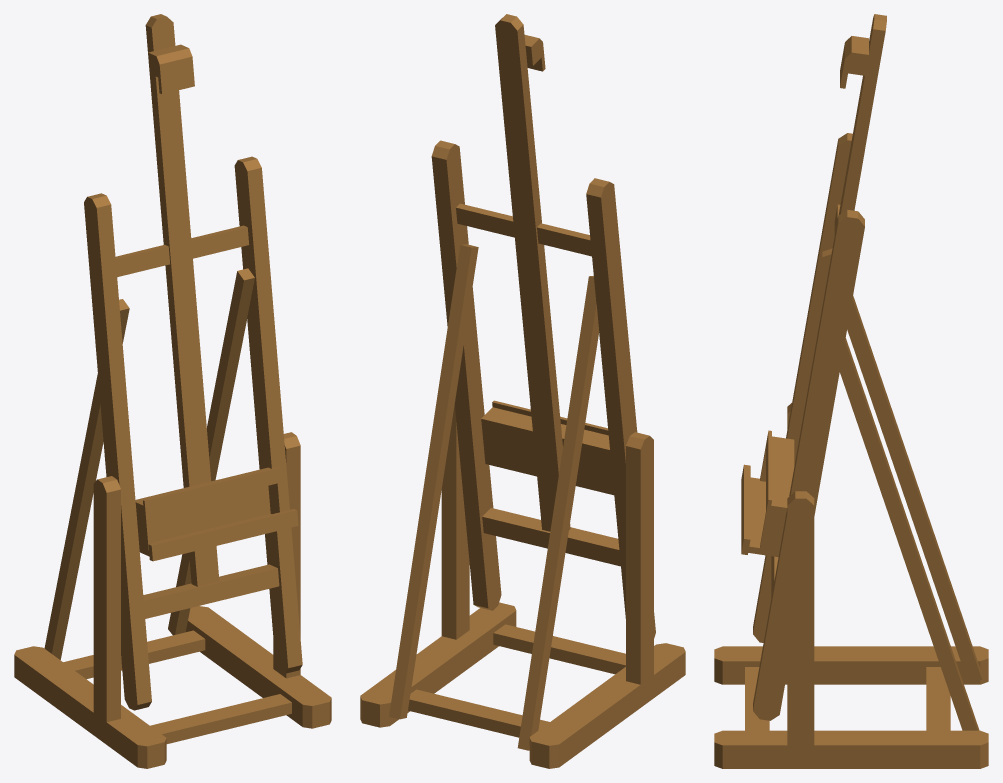
Rendered from stand-easel-standing.fbx.
3 views of the same model, side by side, from view 1: azimuth 30°, elevation 25°; view 2: azimuth 150°, elevation 25°; view 3: azimuth 270°, elevation 25° (orthographic). The views are drawn at different scales.
Visible parts, largest first — view 1: stand-easel-standing; view 2: stand-easel-standing; view 3: stand-easel-standing.
Part boxes in pixels (x1,y1,x2,y2): stand-easel-standing: [14, 14, 331, 768]; stand-easel-standing: [360, 14, 685, 768]; stand-easel-standing: [714, 14, 988, 768].
Size of the model in its own units: 0.67 by 2.22 by 0.784.
